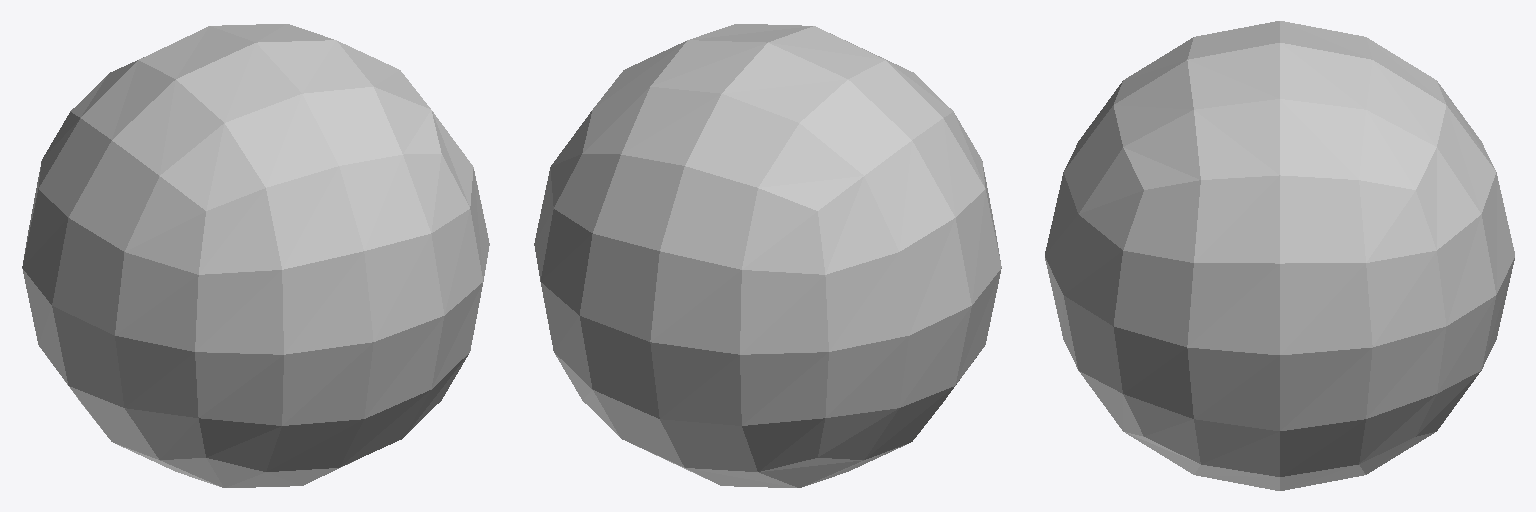
Rendered from Bullet.obj.
3 views of the same model, side by side, from view 1: azimuth 30°, elevation 25°; view 2: azimuth 150°, elevation 25°; view 3: azimuth 270°, elevation 25° (orthographic).
Visible parts, largest first — view 1: MESH_BASEBALL_Ball; view 2: MESH_BASEBALL_Ball; view 3: MESH_BASEBALL_Ball.
Part boxes in pixels (x1,y1,x2,y2): MESH_BASEBALL_Ball: (22,24,489,487); MESH_BASEBALL_Ball: (534,24,1001,487); MESH_BASEBALL_Ball: (1045,21,1514,490).
Bounding box in the file's own units: 7.4 × 7.4 × 7.4.